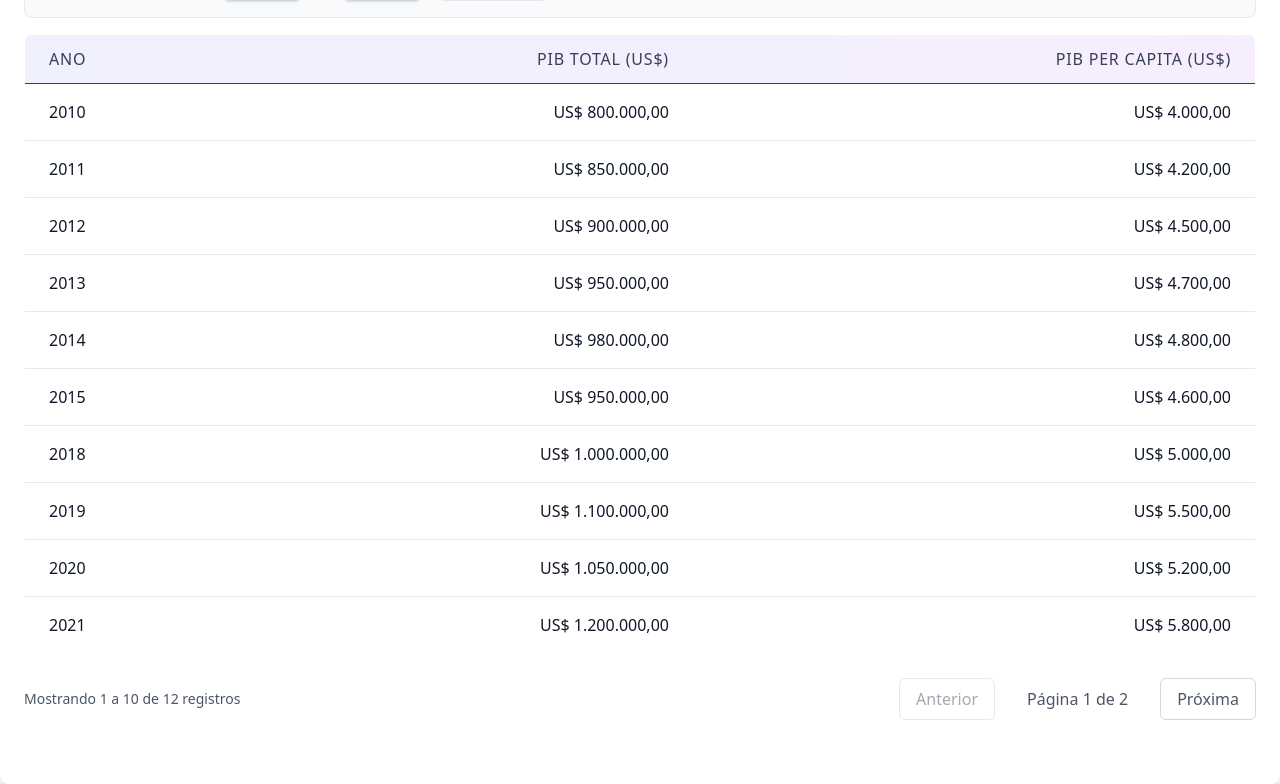
Test case: PIBTablePage › should implement pagination correctly
(page scrolled)
Expected: the text "Mostrando 1 a 10 de 12 registros" is shown, [24,689,240,709]
Expected: the text "Página 1 de 2" is shown, [1027,688,1128,710]
Click the button "Próxima" at point(1208, 699), box [1160,678,1256,720]
(page scrolled)
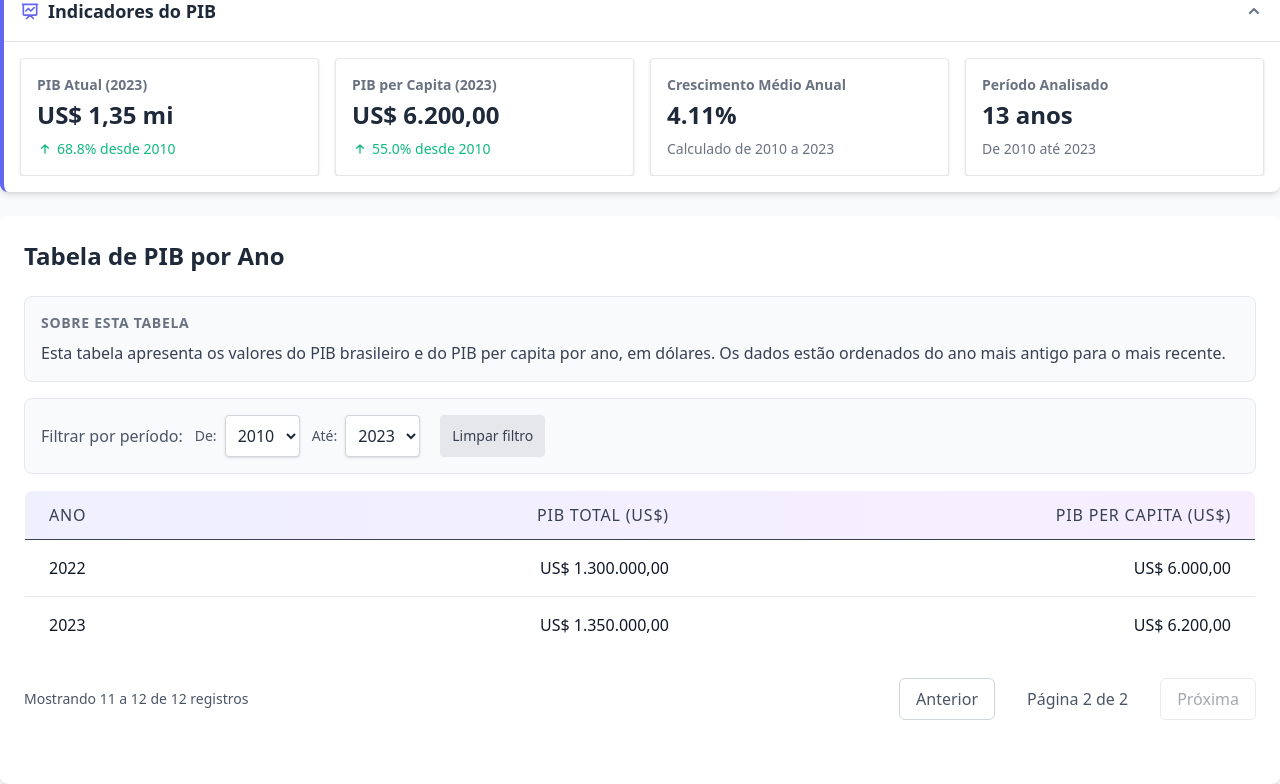
Expected: the text "Página 2 de 2" is shown, [1027,688,1128,710]
Expected: the text "Mostrando 11 a 12 de 12 registros" is shown, [24,689,248,709]
Expected: the button "Próxima" is disabled, [1160,678,1256,720]
Click the button "Anterior" at point(947, 699), box [899,678,995,720]
(page scrolled)
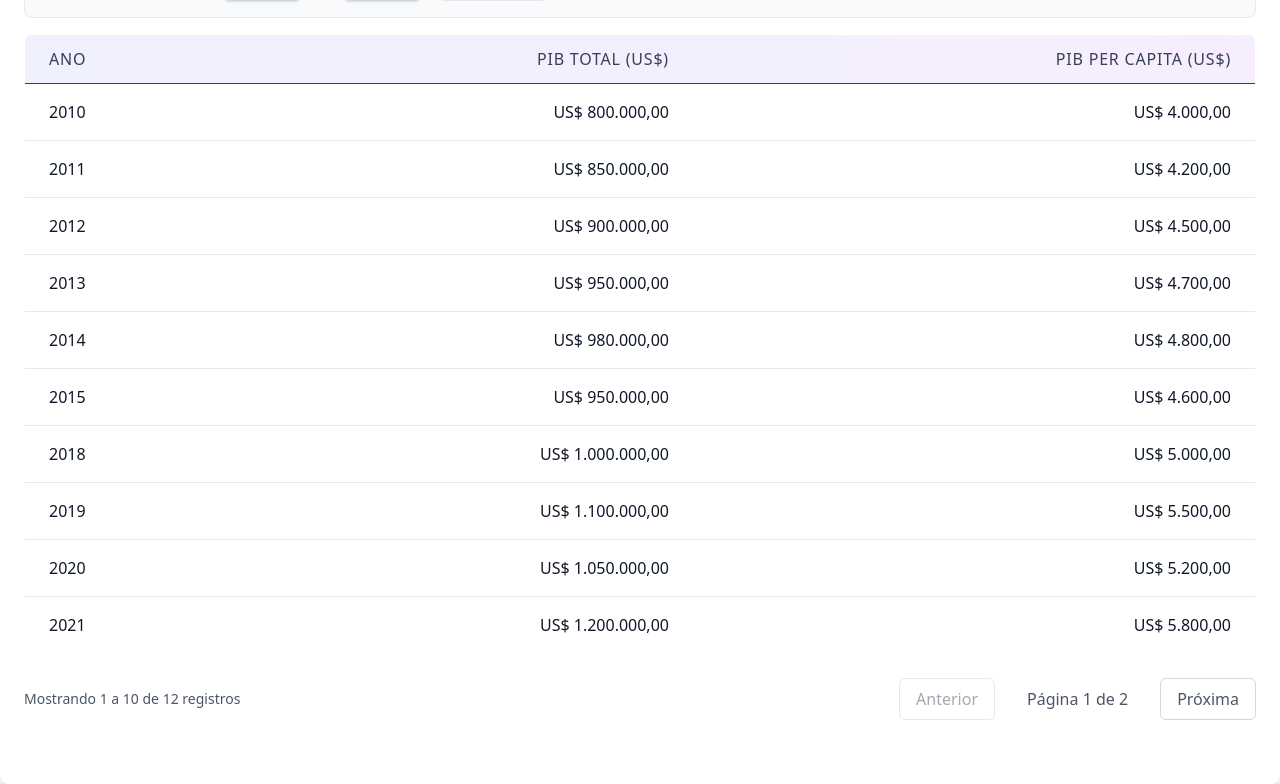
Expected: the text "Página 1 de 2" is shown, [1027,688,1128,710]
